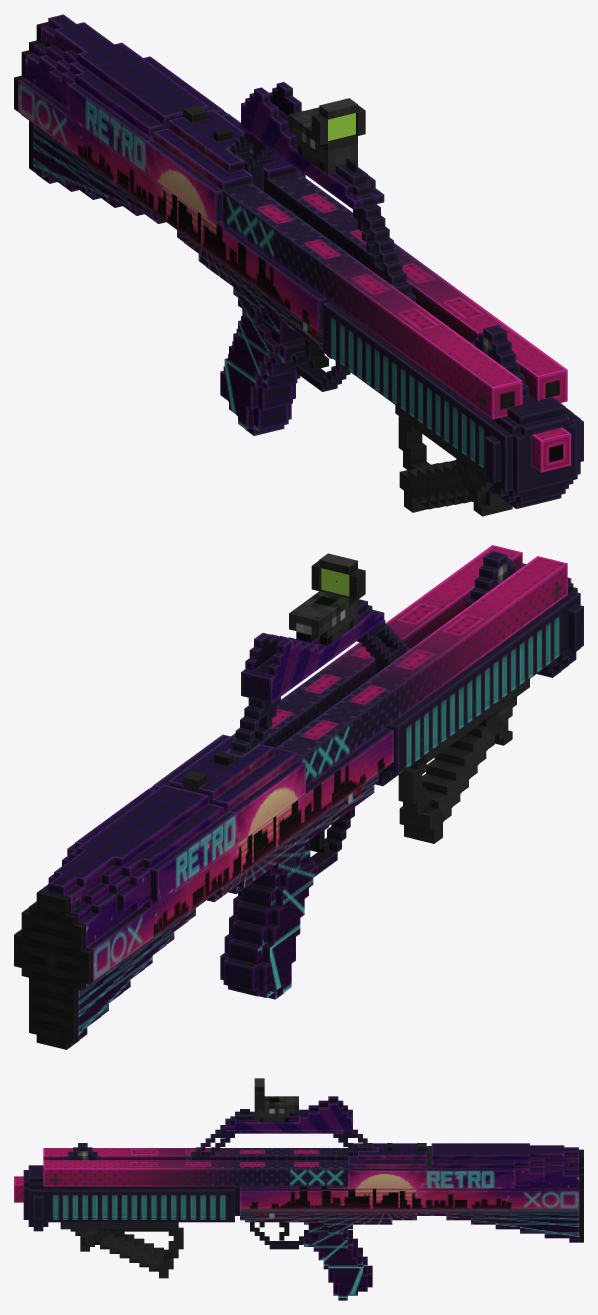
The model's file is RD_NEOSTEAD2000_RETRO.glb.
3 renders of one model, top to bottom at view 1: azimuth 30°, elevation 25°; view 2: azimuth 150°, elevation 25°; view 3: azimuth 270°, elevation 25°, orthographic. The views are drawn at different scales.
Parts seen in each view (by area): view 1: NEOSTEAD2000, NEOSTEAD2000_CLIP, NEOSTEAD2000_FOREND, GRIP2, SCOPE_AIMPOINT; view 2: NEOSTEAD2000, NEOSTEAD2000_CLIP, NEOSTEAD2000_FOREND, GRIP2, SCOPE_AIMPOINT; view 3: NEOSTEAD2000, NEOSTEAD2000_CLIP, NEOSTEAD2000_FOREND, GRIP2, SCOPE_AIMPOINT.
Part boxes in pixels (x1=…): NEOSTEAD2000: x1=14, y1=14, x2=571, y2=472; NEOSTEAD2000_CLIP: x1=145, y1=105, x2=567, y2=419; NEOSTEAD2000_FOREND: x1=322, y1=301, x2=583, y2=508; GRIP2: x1=395, y1=405, x2=512, y2=516; SCOPE_AIMPOINT: x1=289, y1=98, x2=365, y2=174; NEOSTEAD2000: x1=14, y1=551, x2=571, y2=1049; NEOSTEAD2000_CLIP: x1=149, y1=545, x2=567, y2=844; NEOSTEAD2000_FOREND: x1=375, y1=563, x2=583, y2=786; GRIP2: x1=398, y1=679, x2=529, y2=843; SCOPE_AIMPOINT: x1=289, y1=553, x2=365, y2=645; NEOSTEAD2000: x1=14, y1=1096, x2=583, y2=1300; NEOSTEAD2000_CLIP: x1=43, y1=1143, x2=426, y2=1190; NEOSTEAD2000_FOREND: x1=23, y1=1165, x2=234, y2=1231; GRIP2: x1=60, y1=1222, x2=183, y2=1278; SCOPE_AIMPOINT: x1=254, y1=1078, x2=298, y2=1122.
Bounding box in the file's own units: 0.1181 × 0.4723 × 1.14.
4 materials, 4 textured.
